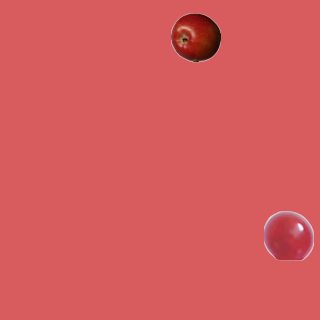Apple Braeburn: (170, 12, 220, 62)
Redcurrant: (263, 210, 313, 260)
